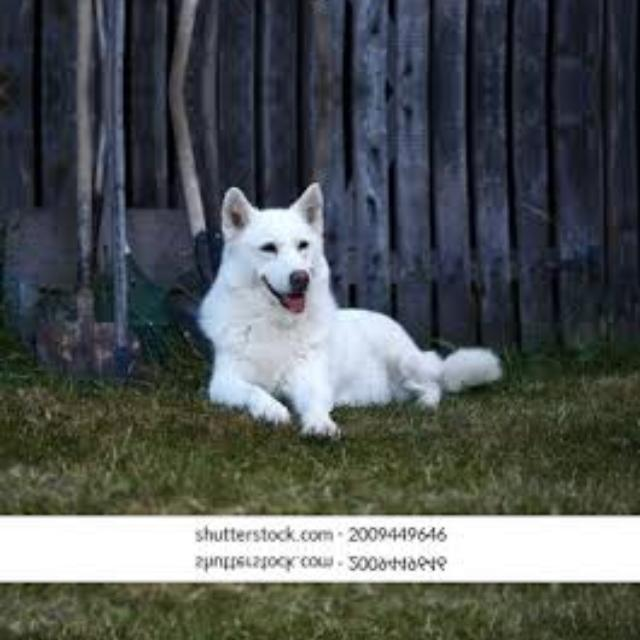dog: (189, 170, 515, 432), (189, 0, 515, 10)
